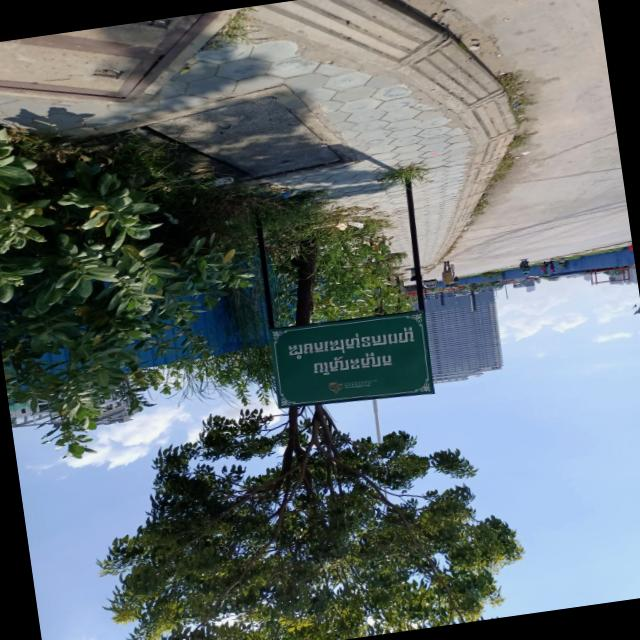Yolov11kh: (285, 323, 416, 361), (311, 350, 395, 377)
